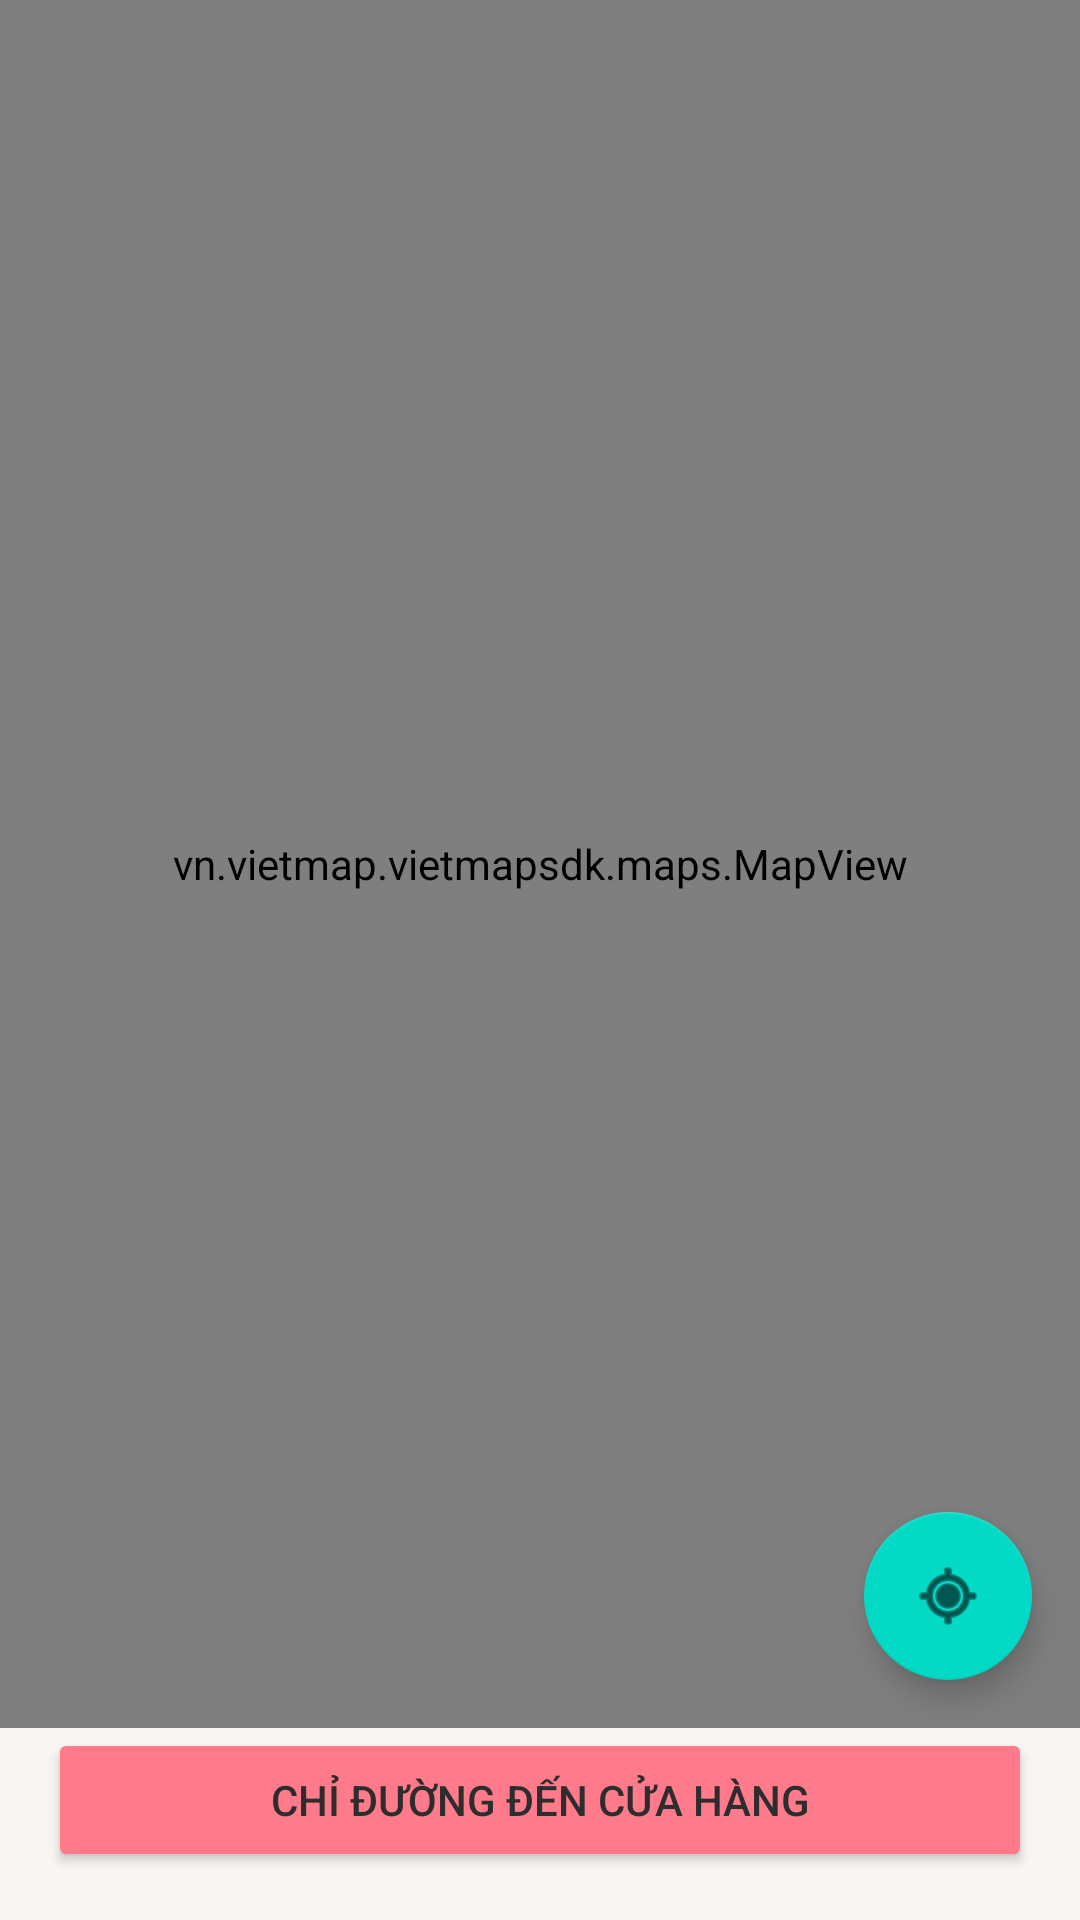

Icons on this 1080x1920 Android screen, each with its box as (x1, y1, x2, y2):
Vị trí hiện tại: (864, 1512, 1032, 1680)
